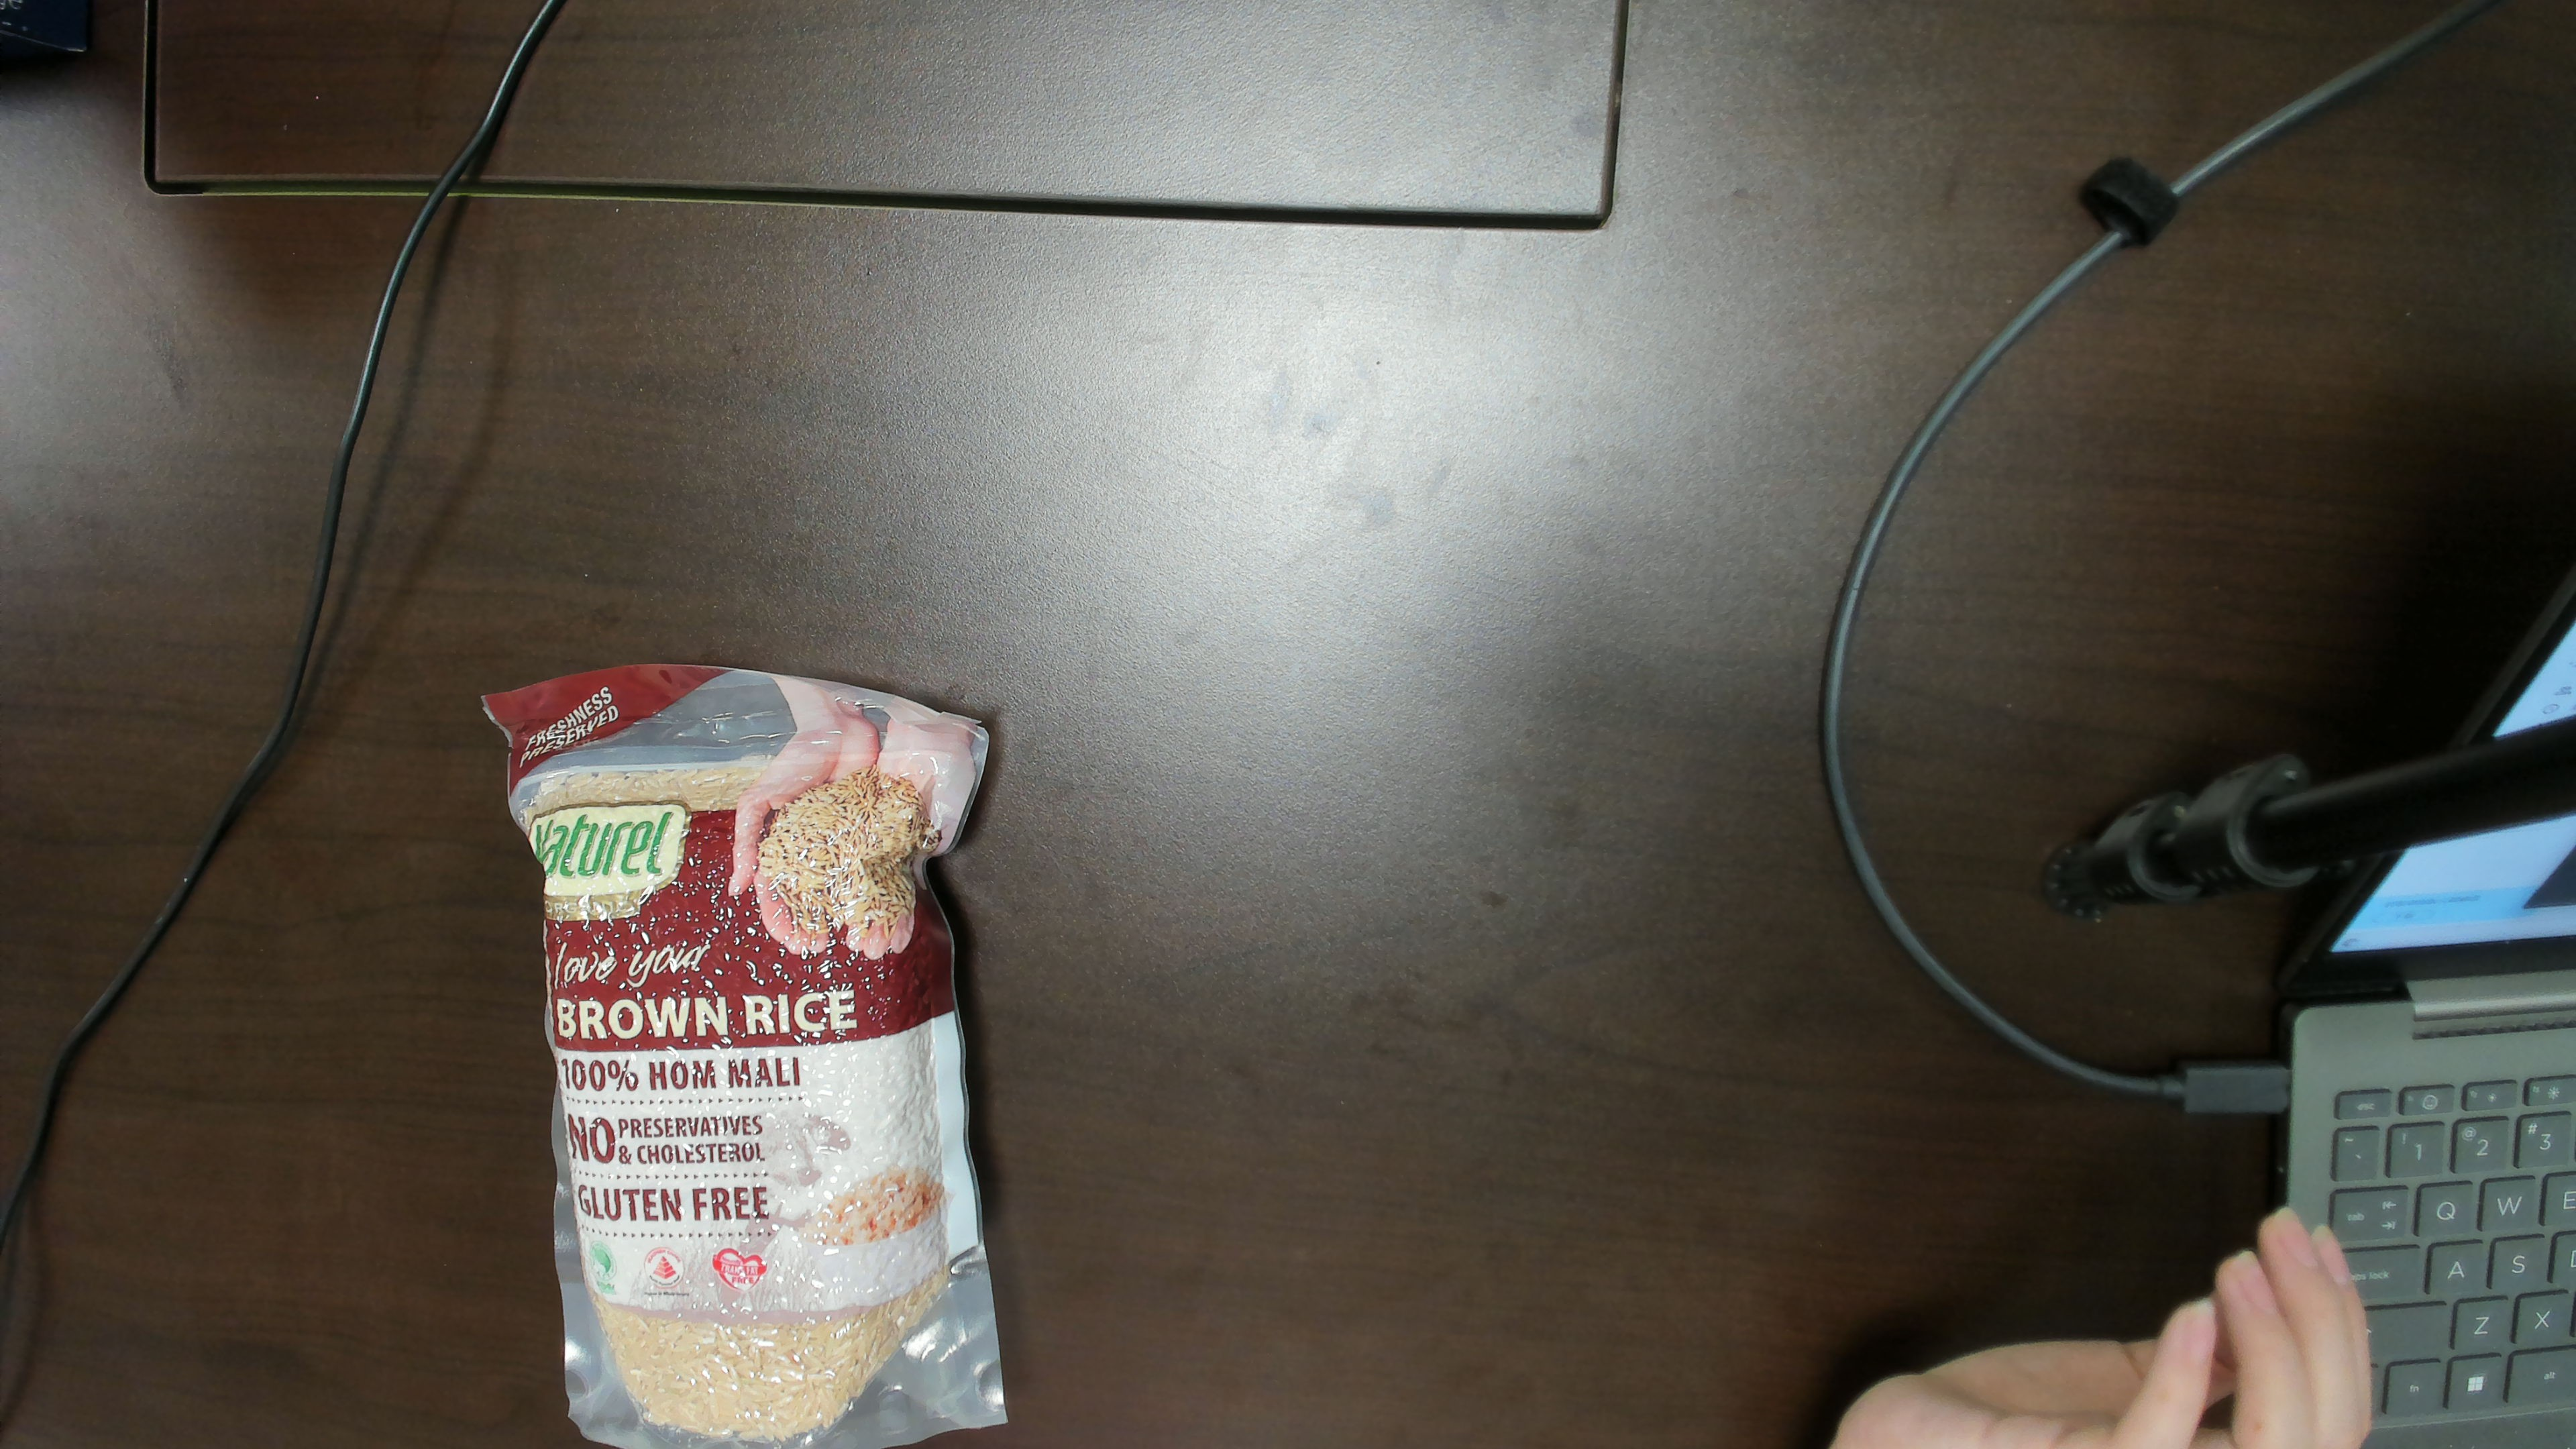Rice(brown-others)_700-799g_NonHalal_Healthy: (552, 690, 977, 1435)
